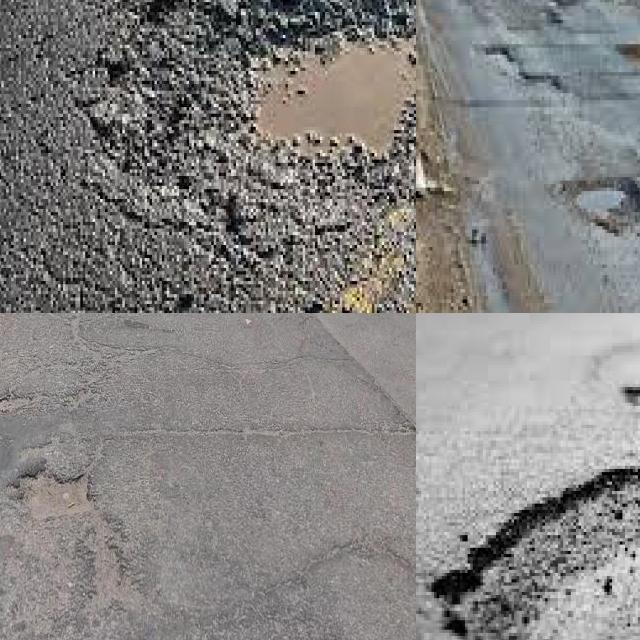Pothole: (429, 466, 640, 640), (14, 464, 98, 527), (547, 181, 640, 237), (481, 48, 565, 93), (534, 0, 594, 16)
